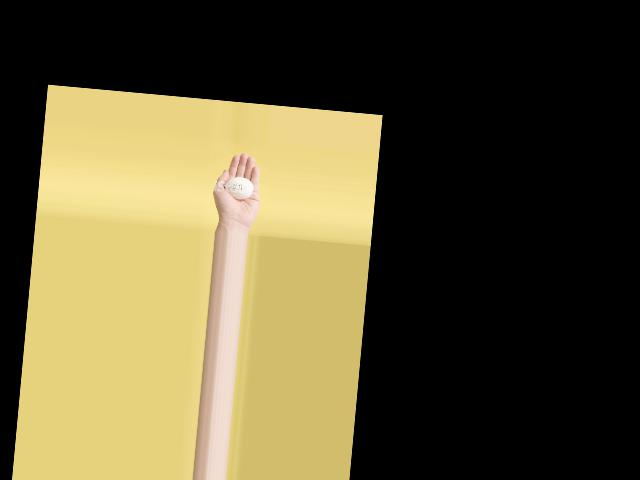egg: (224, 175, 254, 200)
